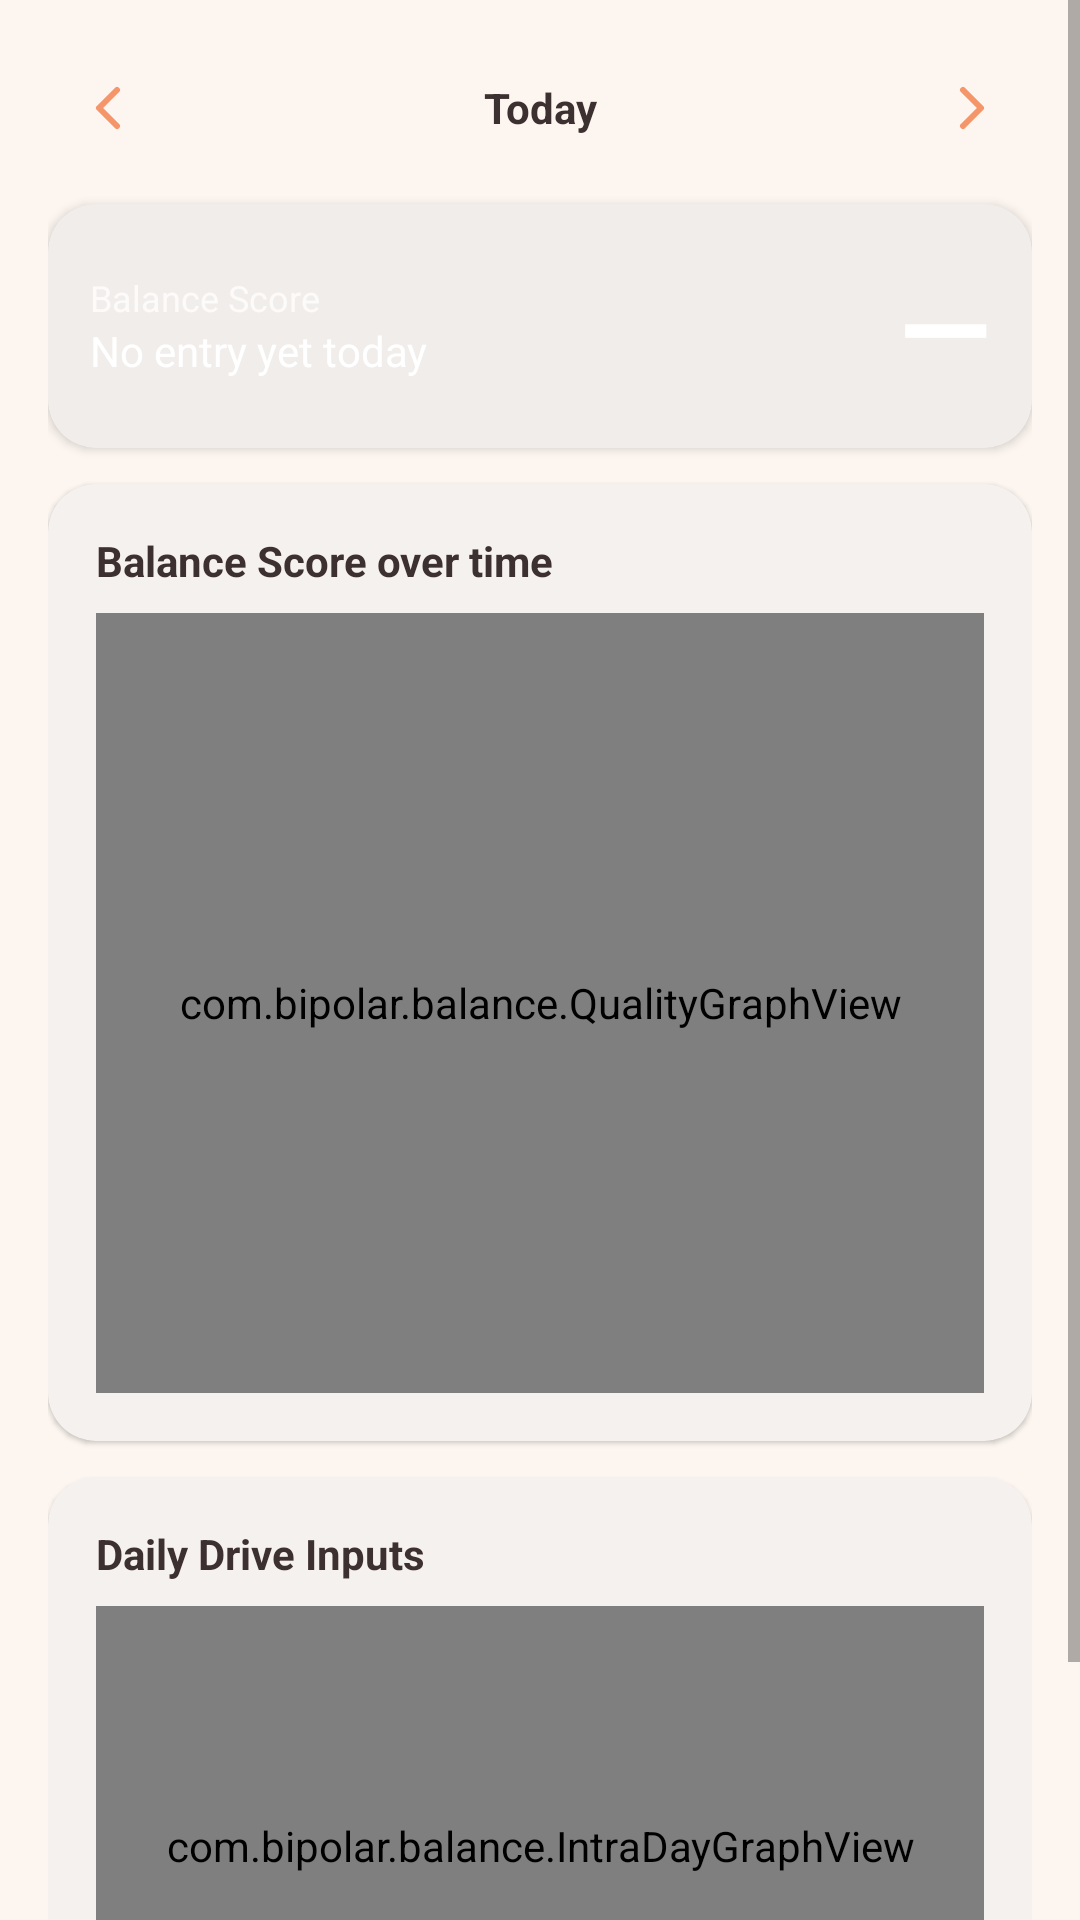

Icon bounding boxes for this 1080px×1920px phone screenshot, format (x1, y1, x2, y2):
Next day: (960, 87, 984, 129)
Previous day: (96, 87, 120, 129)
